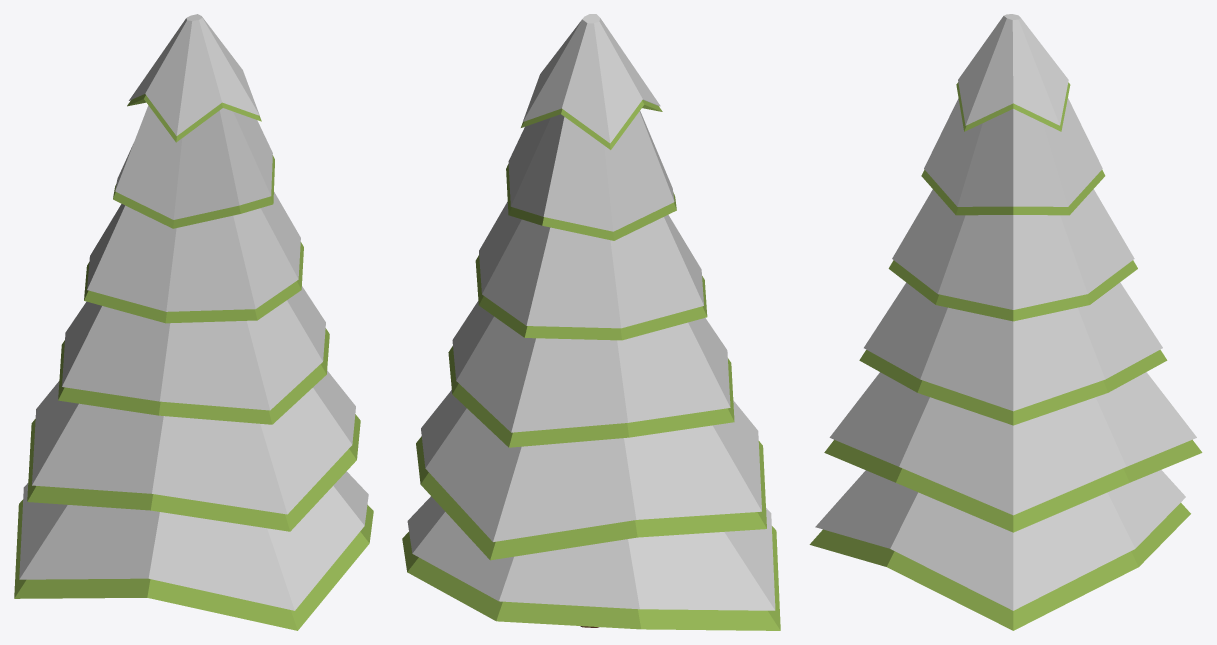
The model's file is Spruce Tree.fbx.
The picture shows the model from 3 angles, left to right: view 1: azimuth 30°, elevation 25°; view 2: azimuth 150°, elevation 25°; view 3: azimuth 270°, elevation 25°; orthographic projection. The views are drawn at different scales.
Parts seen in each view (by area): view 1: Spruce Tree 1; view 2: Spruce Tree 1; view 3: Spruce Tree 1.
Part boxes in pixels (bbox=[...]): Spruce Tree 1: bbox=[14, 14, 373, 630]; Spruce Tree 1: bbox=[402, 14, 780, 630]; Spruce Tree 1: bbox=[809, 14, 1202, 630].
Size of the model in its own units: 238 by 361 by 229.
